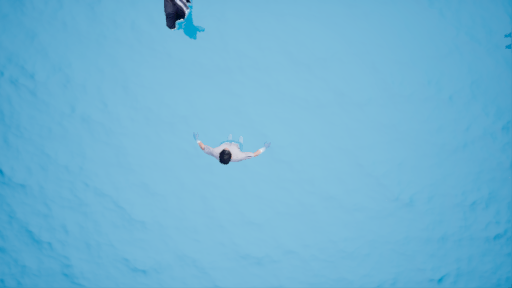person: (186, 122, 271, 165), (150, 1, 218, 52)
